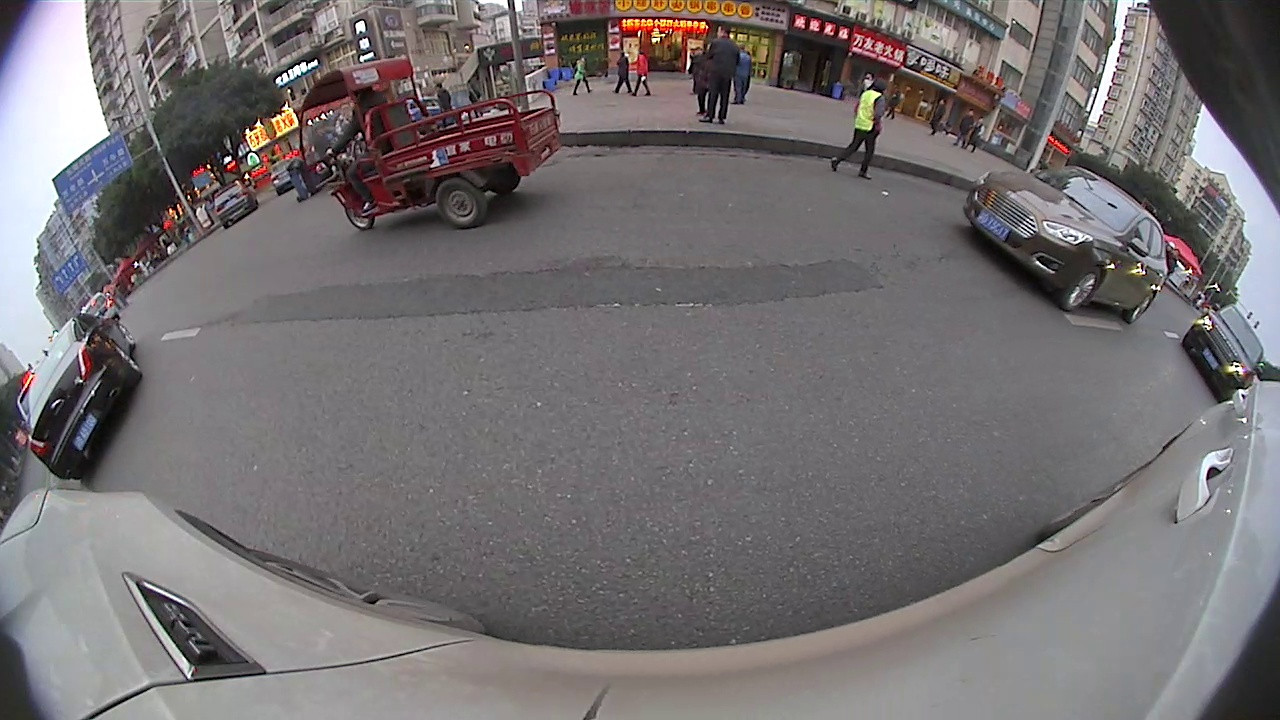car: (960, 162, 1174, 324), (23, 304, 143, 482), (1179, 295, 1265, 402), (210, 182, 260, 233)
front: (1058, 262, 1106, 314), (342, 189, 377, 234)
person: (859, 75, 890, 184), (708, 19, 733, 127)
rear: (433, 175, 484, 231)
rider: (294, 55, 564, 235)
